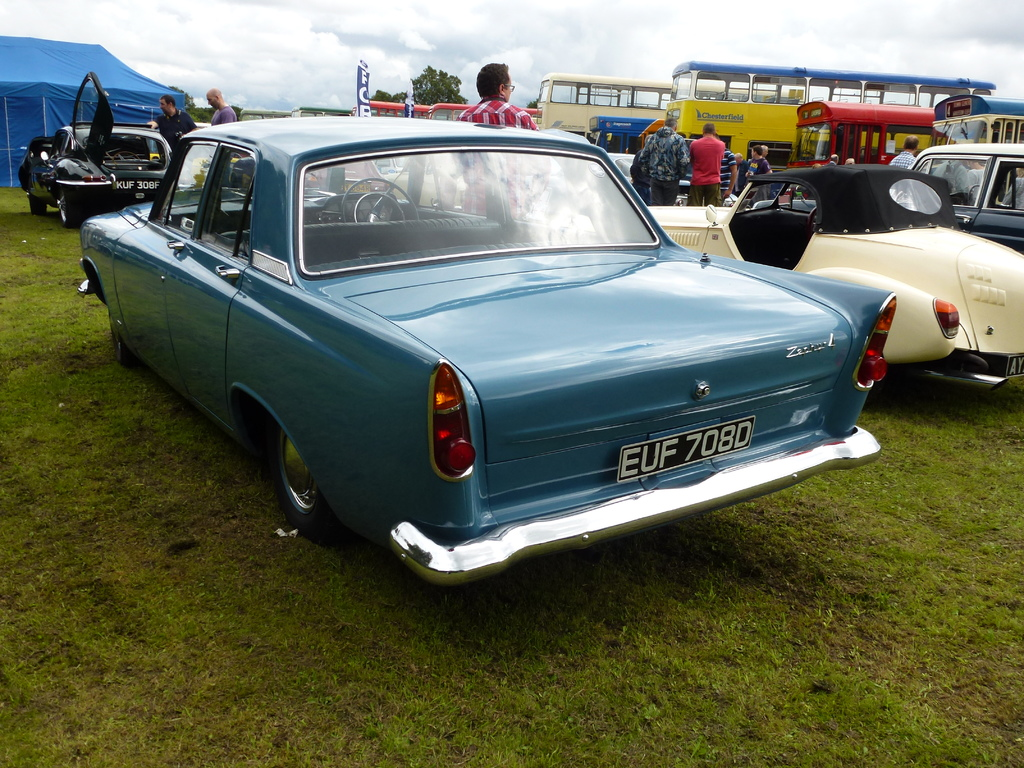Car: (71, 115, 906, 599), (645, 163, 1023, 394), (21, 67, 164, 222), (919, 144, 1023, 248)
